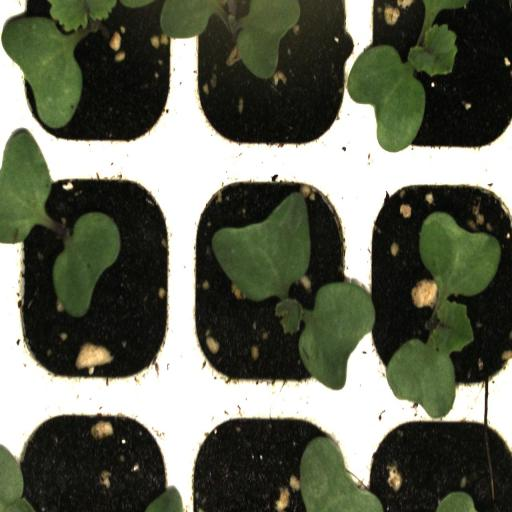seedling: (180, 160, 356, 398), (5, 159, 180, 396), (358, 160, 512, 401), (181, 0, 361, 164), (2, 0, 181, 159), (356, 0, 512, 173)
